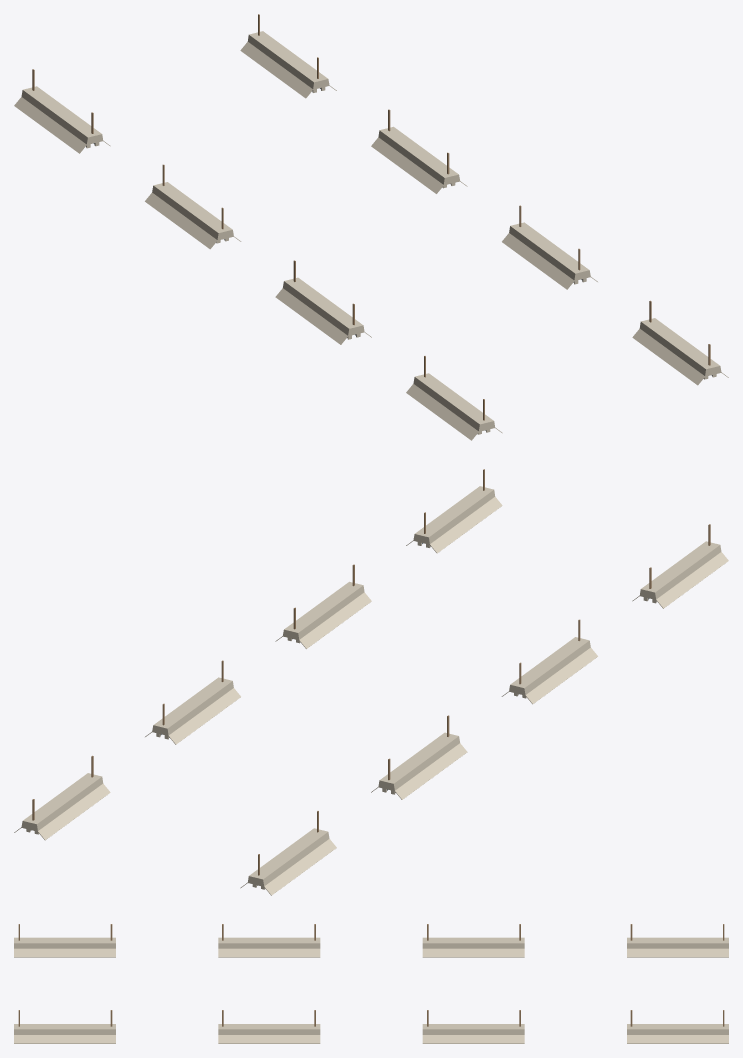
Rendered from lamps.fbx.
3 views of the same model, one above another, from view 1: azimuth 30°, elevation 25°; view 2: azimuth 150°, elevation 25°; view 3: azimuth 270°, elevation 25° (orthographic). The views are drawn at different scales.
Visible parts, largest first — view 1: light_fl006, light_fl002, light_fl004, light_fl003, light_fl001, light_fl005, light_fl, light_fl007; view 2: light_fl, light_fl004, light_fl002, light_fl005, light_fl007, light_fl003, light_fl006, light_fl001; view 3: light_fl002, light_fl004, light_fl, light_fl006, light_fl003, light_fl005, light_fl001, light_fl007.
Part boxes in pixels (x1,y1,x2,y2): light_fl006: [14, 69, 110, 153]; light_fl002: [275, 260, 371, 344]; light_fl004: [145, 164, 241, 249]; light_fl003: [502, 205, 597, 289]; light_fl001: [632, 300, 728, 385]; light_fl005: [371, 109, 467, 193]; light_fl: [406, 356, 502, 440]; light_fl007: [240, 14, 336, 98]; light_fl: [632, 524, 728, 608]; light_fl004: [371, 715, 467, 799]; light_fl002: [501, 619, 597, 704]; light_fl005: [145, 660, 240, 744]; light_fl007: [14, 755, 110, 840]; light_fl003: [275, 564, 371, 648]; light_fl006: [240, 811, 336, 895]; light_fl001: [406, 469, 502, 553]; light_fl002: [218, 924, 320, 957]; light_fl004: [422, 924, 524, 957]; light_fl: [14, 924, 115, 957]; light_fl006: [627, 924, 728, 957]; light_fl003: [218, 1010, 320, 1043]; light_fl005: [422, 1010, 524, 1043]; light_fl001: [14, 1010, 115, 1043]; light_fl007: [627, 1010, 728, 1043].
Bounding box in the file's own units: 228 × 700 × 29.66.
